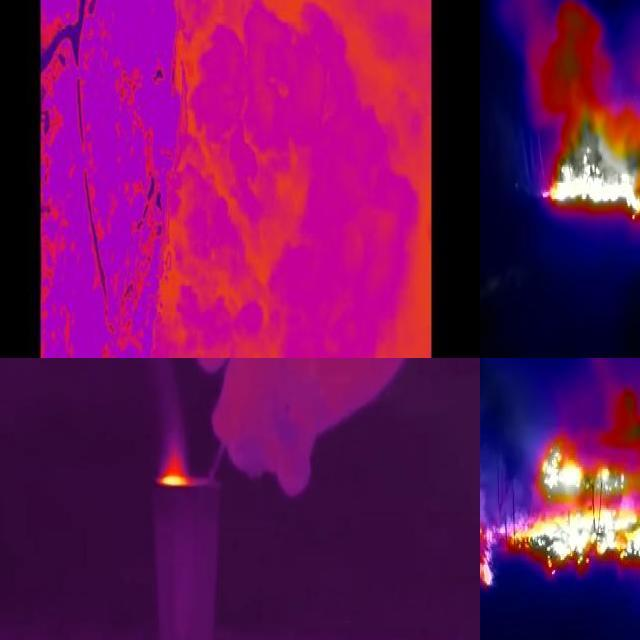fire: (481, 433, 640, 593), (544, 97, 640, 226), (156, 441, 198, 490)
